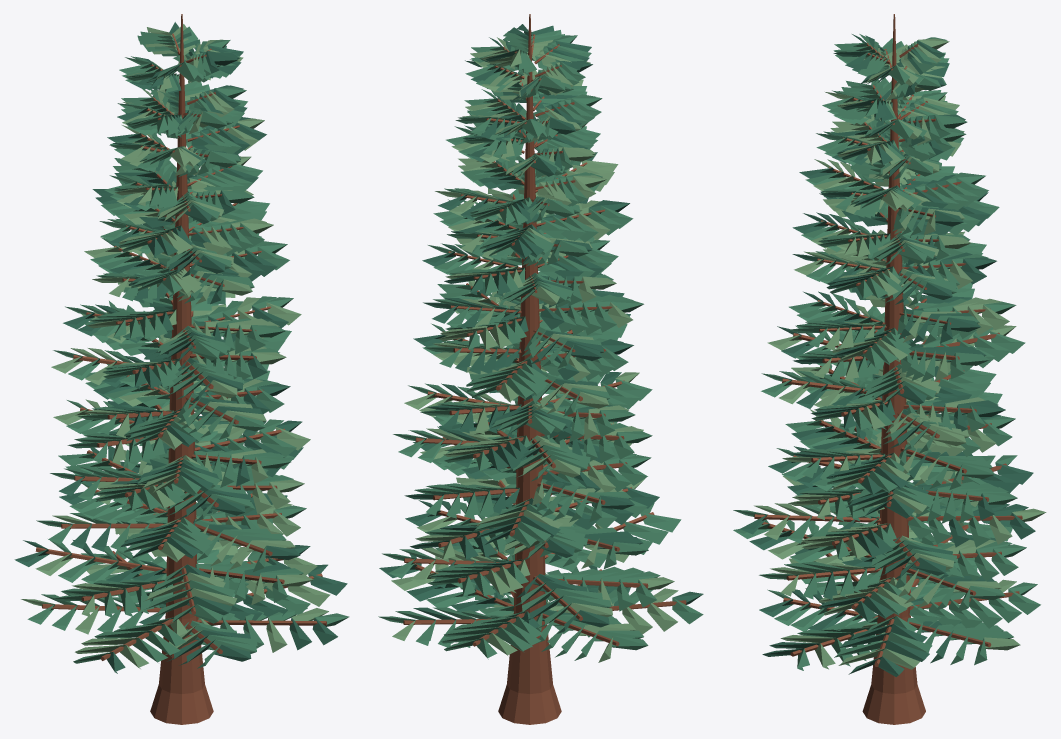
The model's file is redwood-lod.glb.
3 views of the same model, side by side, from view 1: azimuth 30°, elevation 25°; view 2: azimuth 150°, elevation 25°; view 3: azimuth 270°, elevation 25° (orthographic).
Parts seen in each view (by area): view 1: Redwood fern green.001, Redwood new growth.001, Redwood shadow needles.001, Sequoia reddish bark.001; view 2: Redwood fern green.001, Redwood shadow needles.001, Redwood new growth.001, Sequoia reddish bark.001; view 3: Redwood fern green.001, Redwood shadow needles.001, Redwood new growth.001, Sequoia reddish bark.001.
Part boxes in pixels (bbox=[...]): Redwood fern green.001: bbox=[27, 26, 349, 668]; Redwood new growth.001: bbox=[21, 24, 330, 668]; Redwood shadow needles.001: bbox=[14, 22, 347, 673]; Sequoia reddish bark.001: bbox=[35, 14, 326, 724]; Redwood fern green.001: bbox=[378, 30, 703, 660]; Redwood shadow needles.001: bbox=[379, 24, 703, 642]; Redwood new growth.001: bbox=[391, 37, 678, 662]; Sequoia reddish bark.001: bbox=[403, 14, 686, 724]; Redwood fern green.001: bbox=[733, 34, 1040, 670]; Redwood shadow needles.001: bbox=[740, 34, 1035, 676]; Redwood new growth.001: bbox=[754, 38, 1046, 669]; Sequoia reddish bark.001: bbox=[754, 14, 1022, 724].
Size of the model in its own units: 7.06 by 16.2 by 6.62.
